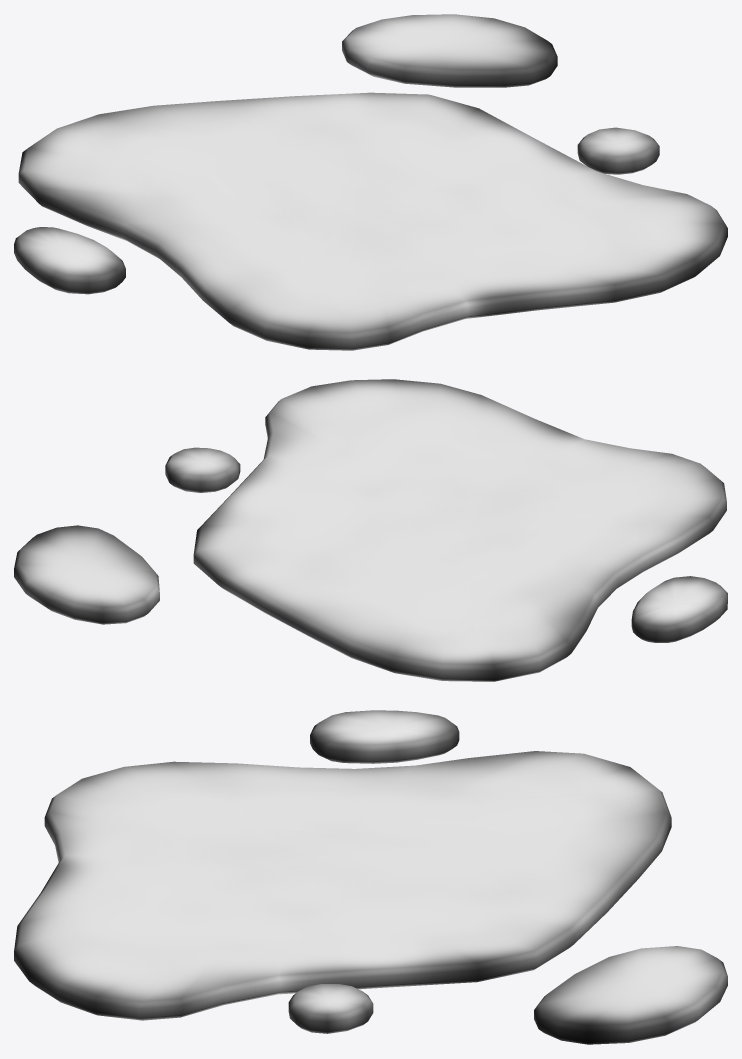
Rendered from WaterPuddleOutline.fbx.
The picture shows the model from 3 angles, top to bottom: view 1: azimuth 30°, elevation 25°; view 2: azimuth 150°, elevation 25°; view 3: azimuth 270°, elevation 25°; orthographic projection. The views are drawn at different scales.
Parts seen in each view (by area): view 1: Plane; view 2: Plane; view 3: Plane.
Boxes of the visible parts, x1,y1,x2,y2 form: Plane: [14, 14, 727, 350]; Plane: [14, 379, 727, 681]; Plane: [14, 710, 727, 1044].
Size of the model in its own units: 180 by 170 by 5.
Materials: 1 (1 with a texture image).
